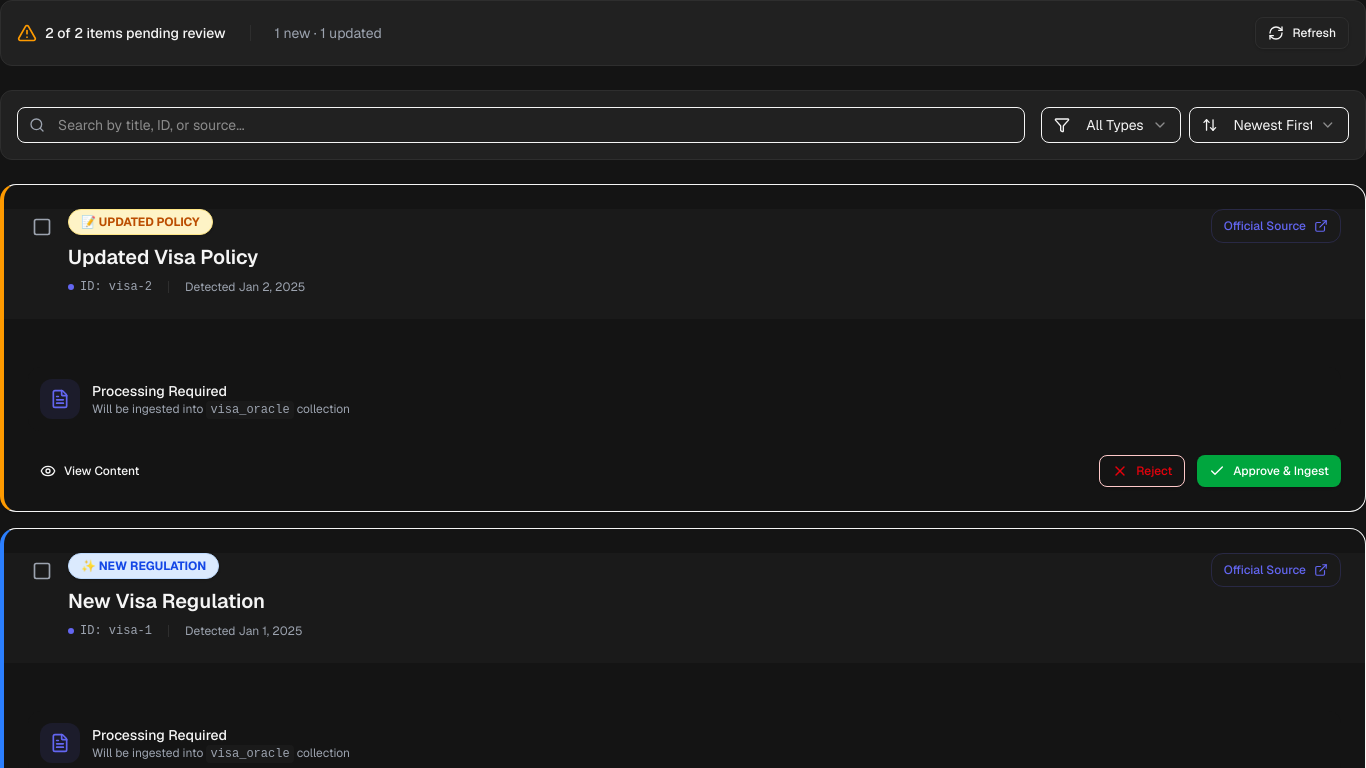
Scenario: VisaOraclePage › Filtering and Sorting › should filter items by search query
Expected: the text "New Visa Regulation" is shown, x1=68 y1=588 x2=265 y2=614
Type "New" into the field with placeholder "Search by title, ID, or source..." at point(521, 125), box x1=17 y1=107 x2=1025 y2=143
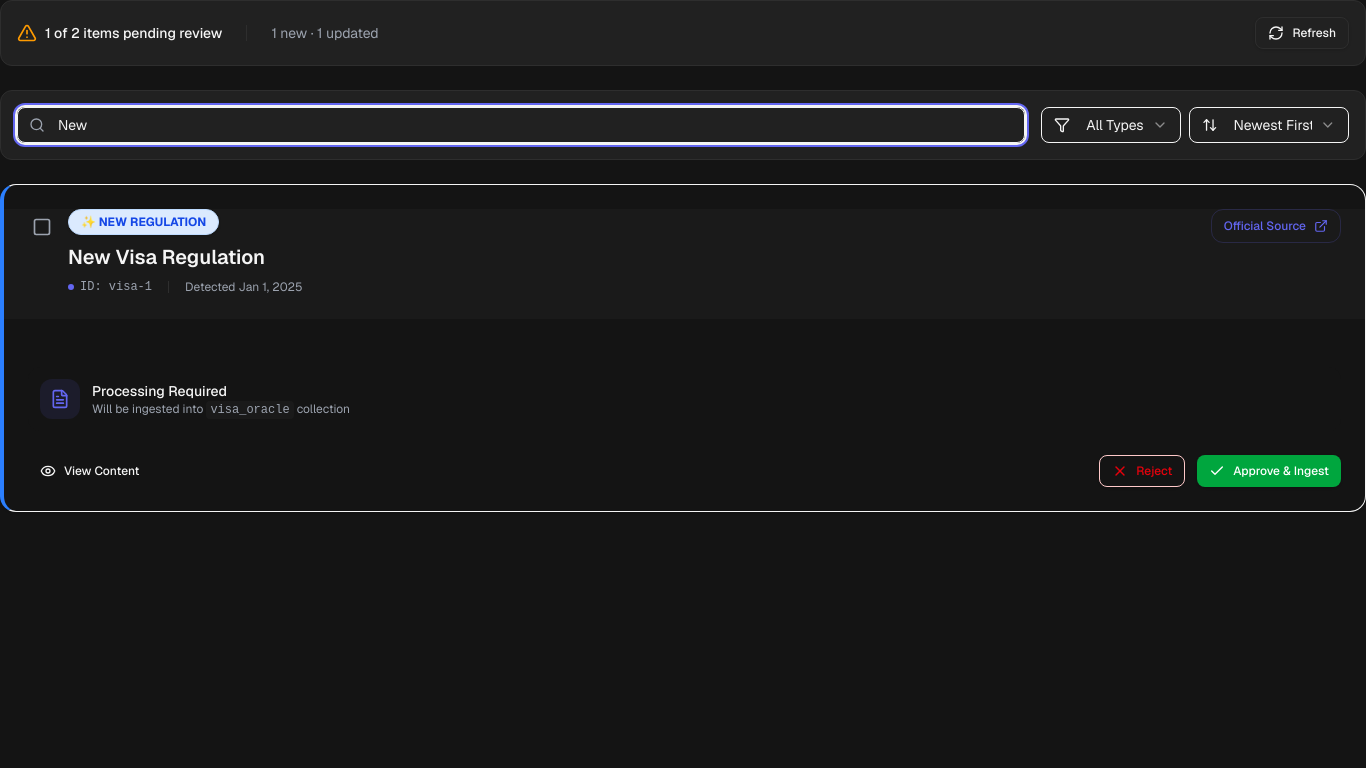
Expected: the text "New Visa Regulation" is shown, x1=68 y1=244 x2=265 y2=270
Now the text "Updated Visa Policy" is gone
